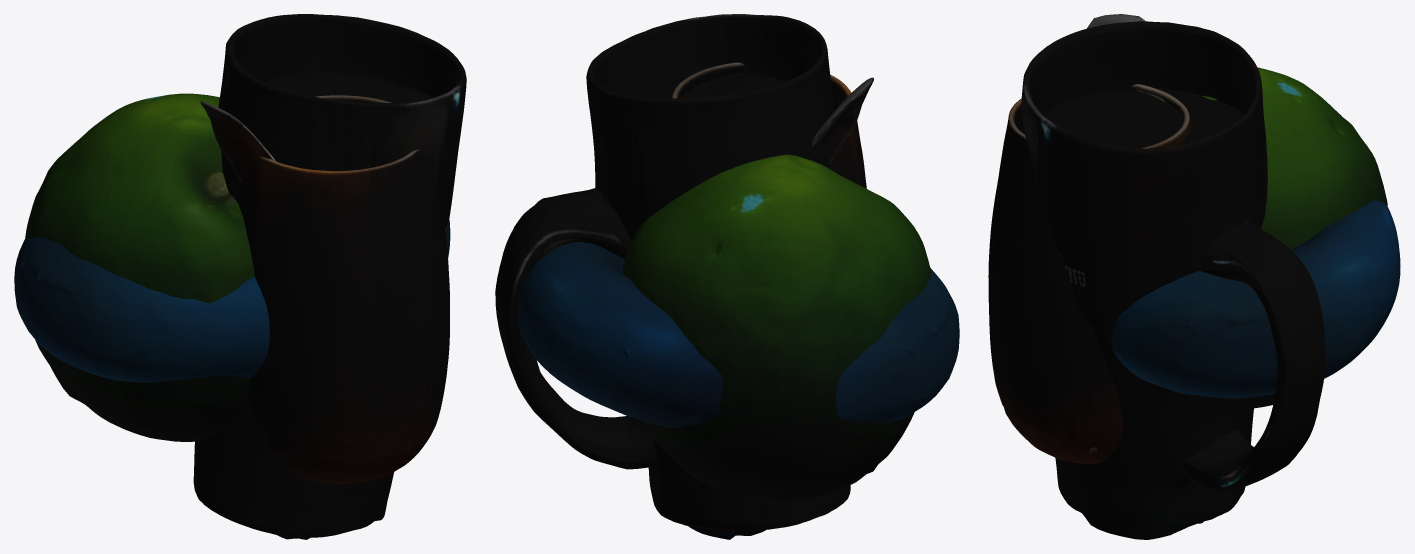
File: scenegen.glb
3 renders of one model, left to right at view 1: azimuth 30°, elevation 25°; view 2: azimuth 150°, elevation 25°; view 3: azimuth 270°, elevation 25°, orthographic.
Parts seen in each view (by area): view 1: geometry_3, geometry_0, geometry_4, geometry_2, geometry_1; view 2: geometry_4, geometry_0, geometry_2, geometry_3, geometry_1; view 3: geometry_0, geometry_2, geometry_3, geometry_4, geometry_1.
Part boxes in pixels (box(x1,y1,x2,y2)): geometry_3: box(238, 95, 449, 484); geometry_0: box(193, 14, 466, 539); geometry_4: box(25, 93, 254, 441); geometry_2: box(14, 220, 450, 382); geometry_1: box(200, 101, 275, 181); geometry_4: box(622, 154, 931, 501); geometry_0: box(495, 14, 850, 539); geometry_2: box(517, 242, 959, 428); geometry_3: box(671, 62, 866, 188); geometry_1: box(811, 77, 873, 165); geometry_0: box(1021, 21, 1325, 539); geometry_2: box(1112, 200, 1400, 398); geometry_3: box(988, 84, 1190, 464); geometry_4: box(1201, 67, 1387, 408); geometry_1: box(1087, 14, 1145, 454).
Bounding box in the file's own units: 1.86 × 1.96 × 1.61.
5 materials, 5 textured.
